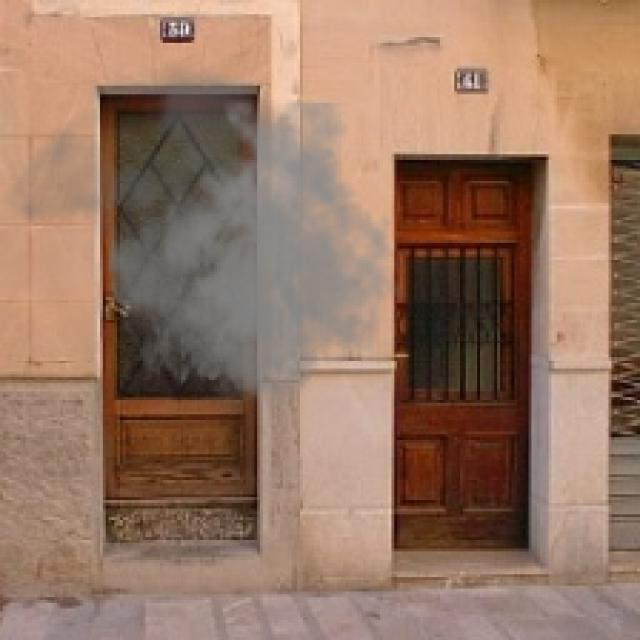Smoke: (3, 57, 403, 423)
